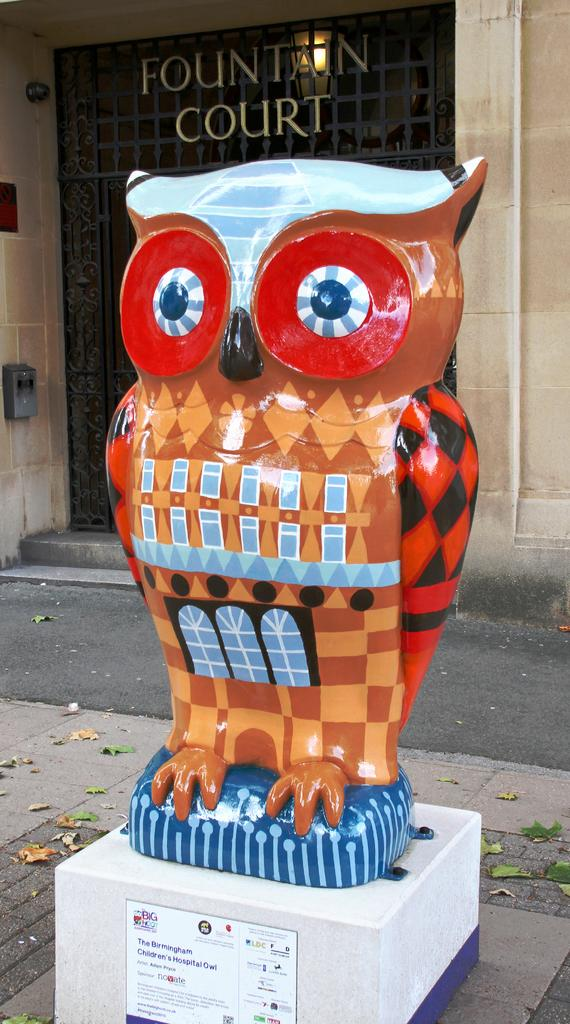Owl: (101, 159, 489, 837)
